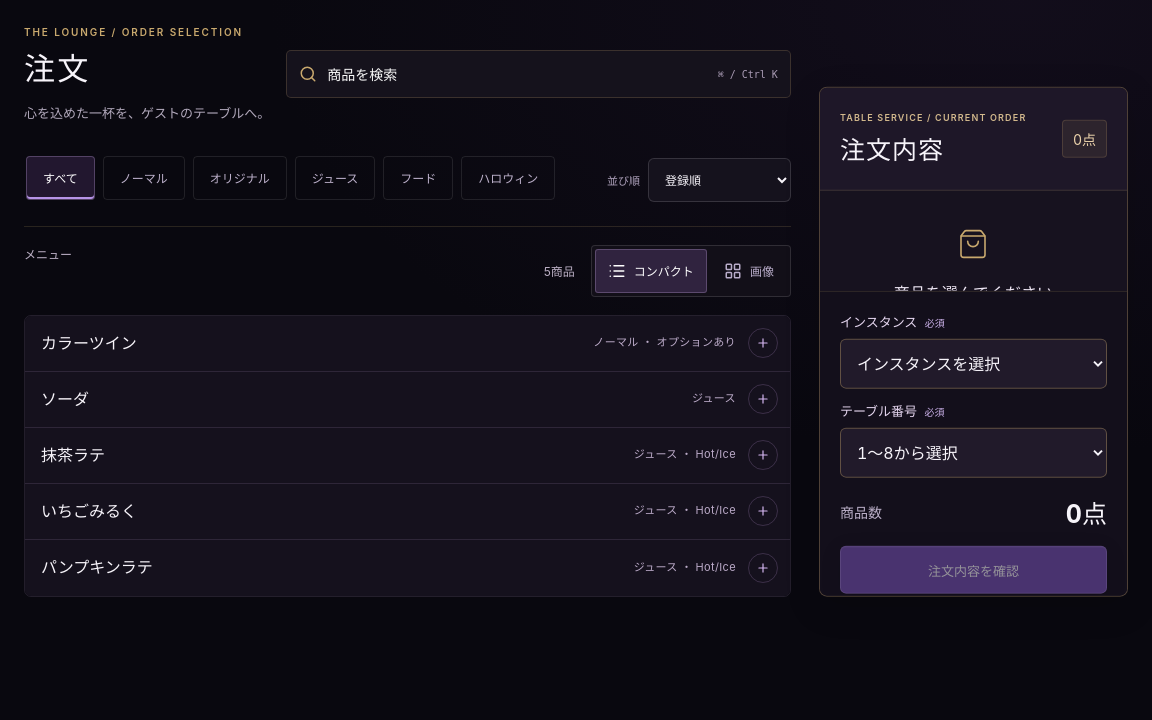
Test: POS注文フロー › テーブル未選択では送信できず、0個でカートから除く
Click the button with aria-label "ソーダをカートに追加". click: (65, 399)
box: [25,372,790,428]
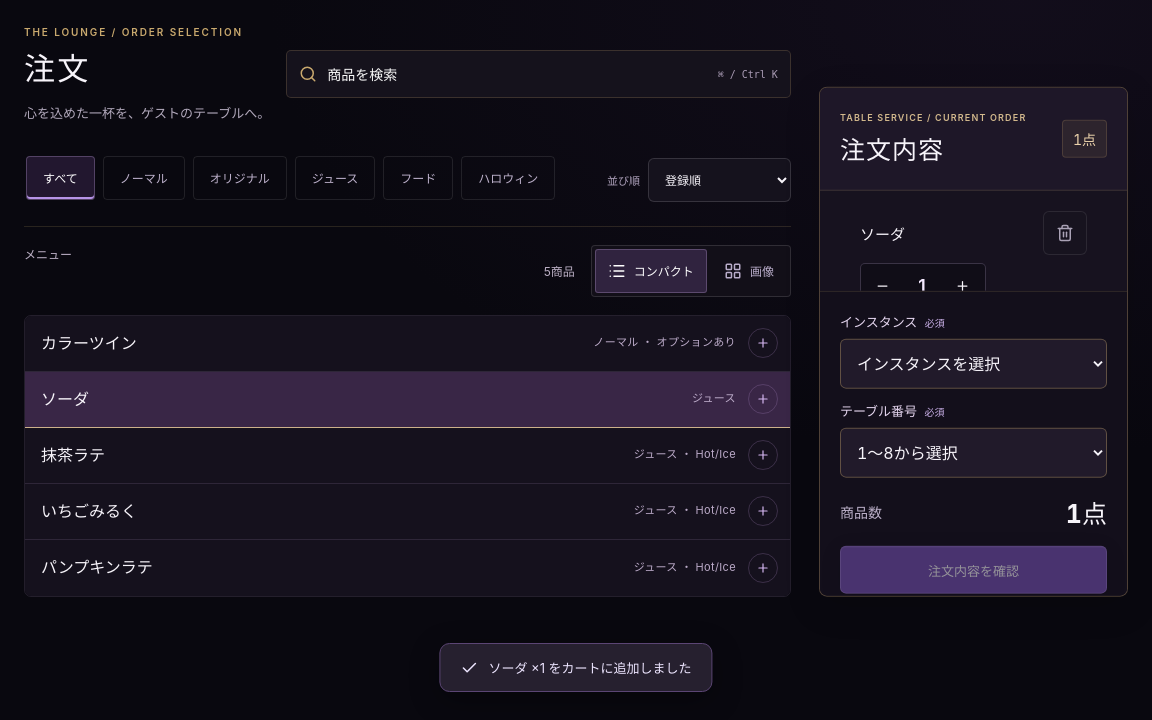
Expected: the button "注文内容を確認" is disabled, [840,546,1107,594]
Select "第一インスタンス" in the dropdown labelled "インスタンス 必須". click: (973, 364)
box: [840,339,1107,389]
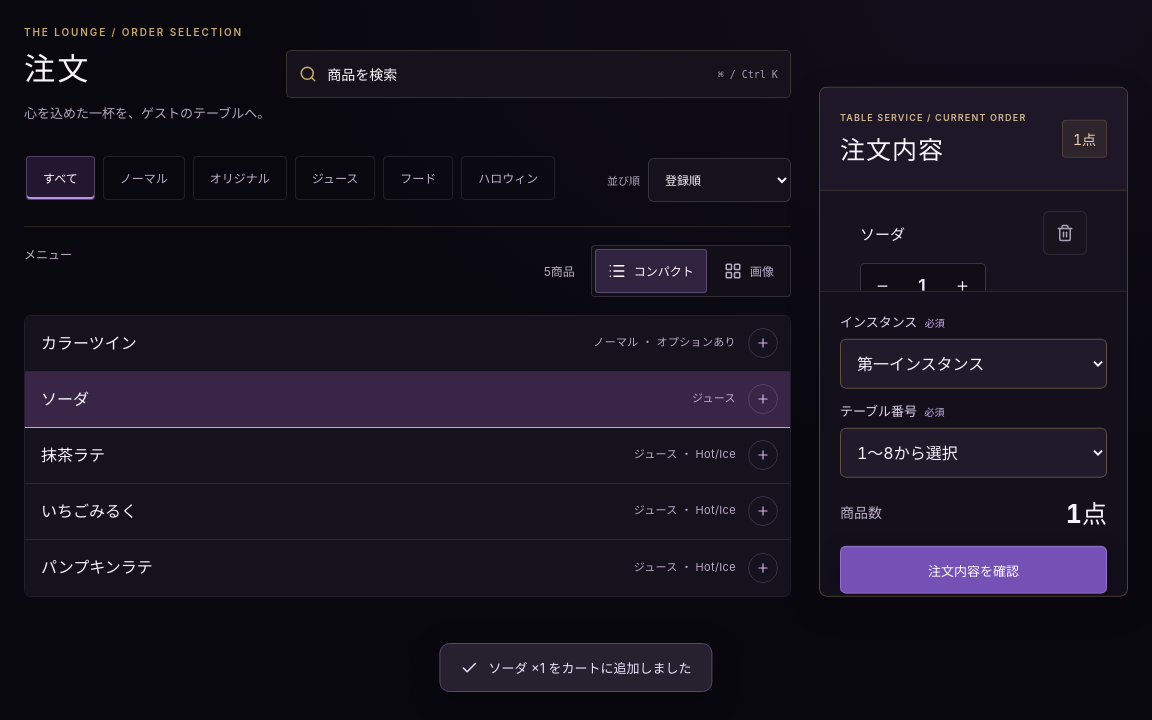
Click the button "注文内容を確認". click: (973, 570)
box: [840,546,1107,594]
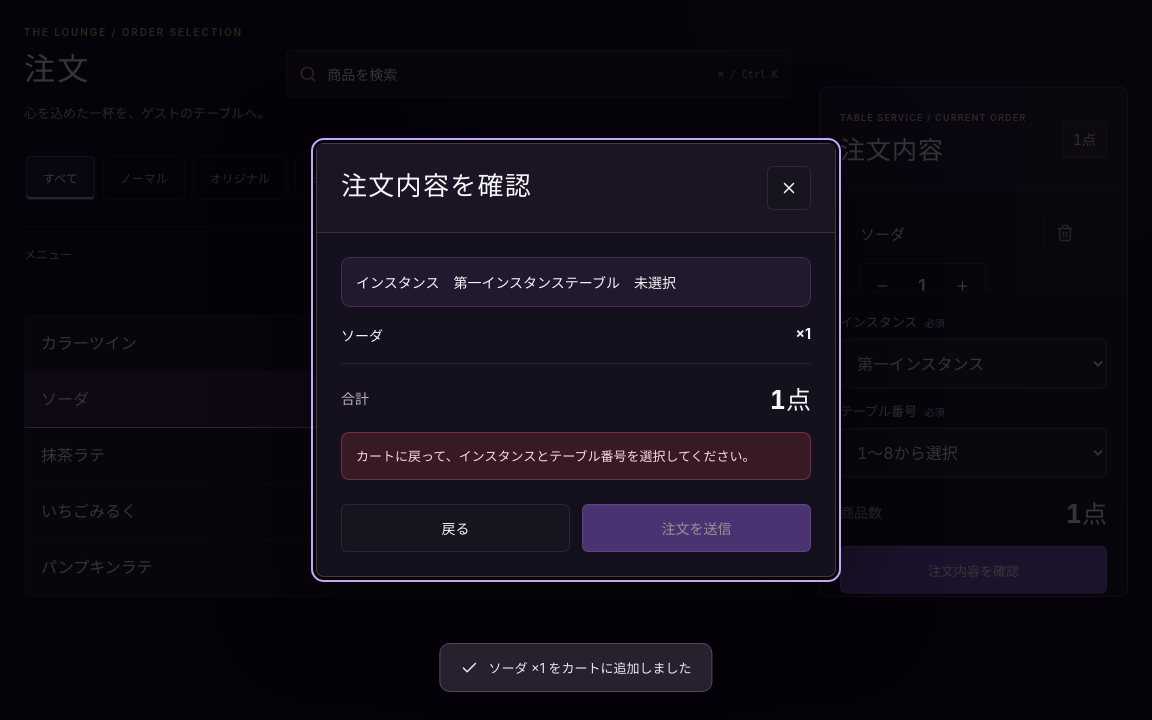
Expected: the button "注文を送信" is disabled, [582,504,811,552]
Click the button named "閉じる". click: (789, 188)
box: [767,166,811,210]
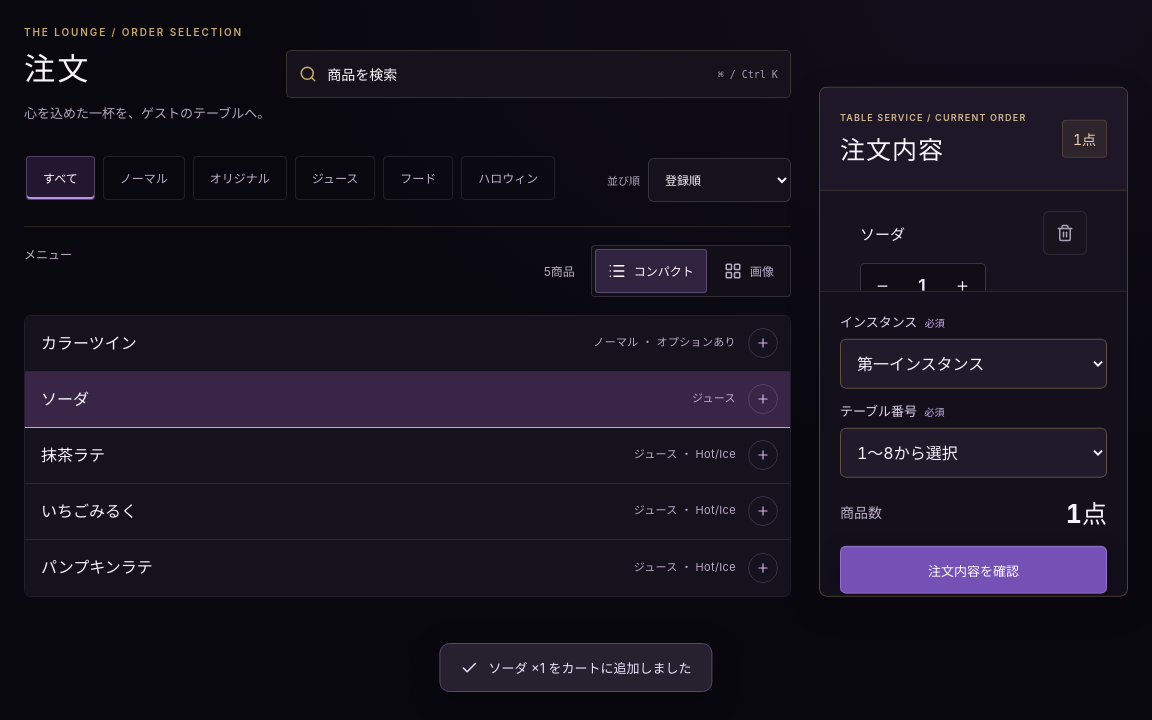
Click the button named "ソーダを1個減らす". click: (883, 286)
box: [861,264,905,308]
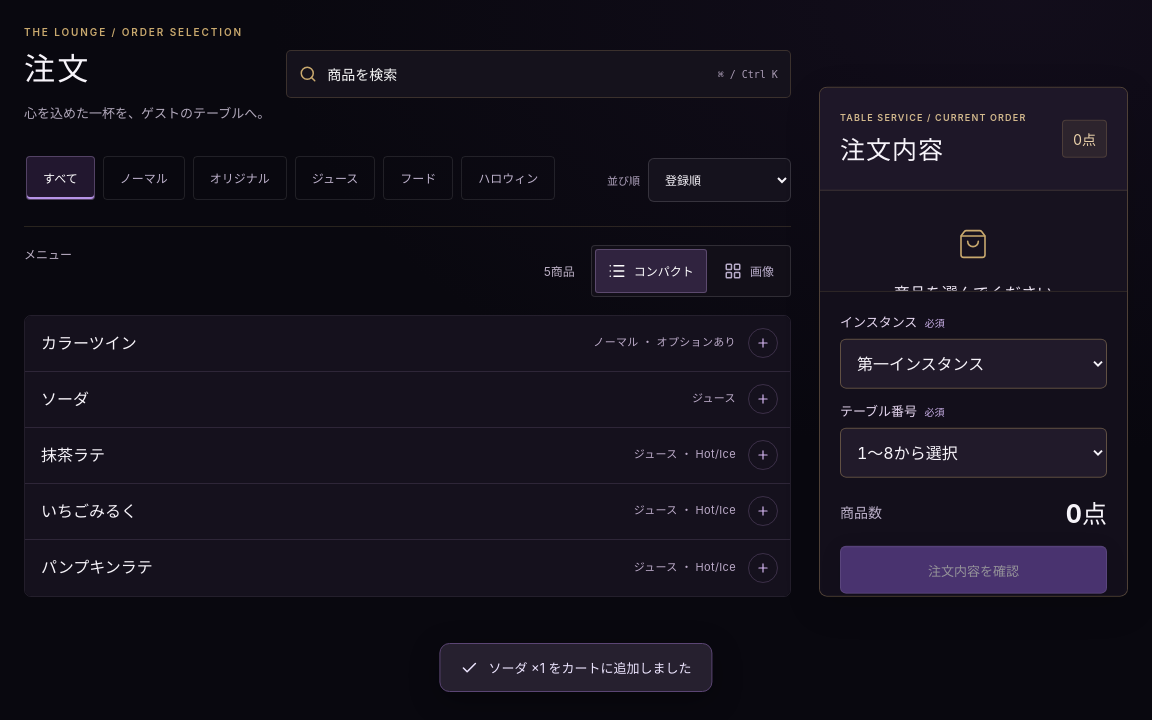
Expected: the button "注文内容を確認" is disabled, [840,546,1107,594]
